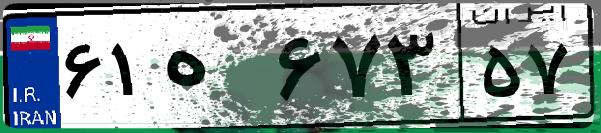1: (110, 28, 158, 98)
3: (385, 28, 445, 110)
5: (475, 38, 525, 113)
6: (270, 28, 330, 110), (57, 26, 110, 100)
7: (330, 28, 385, 110), (525, 38, 570, 115)
ه: (158, 20, 270, 120)
